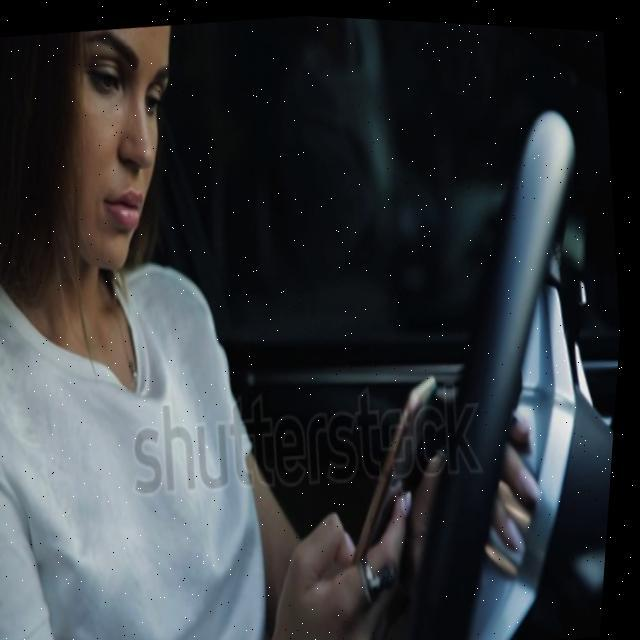PhoneCall: (341, 362, 461, 554)
